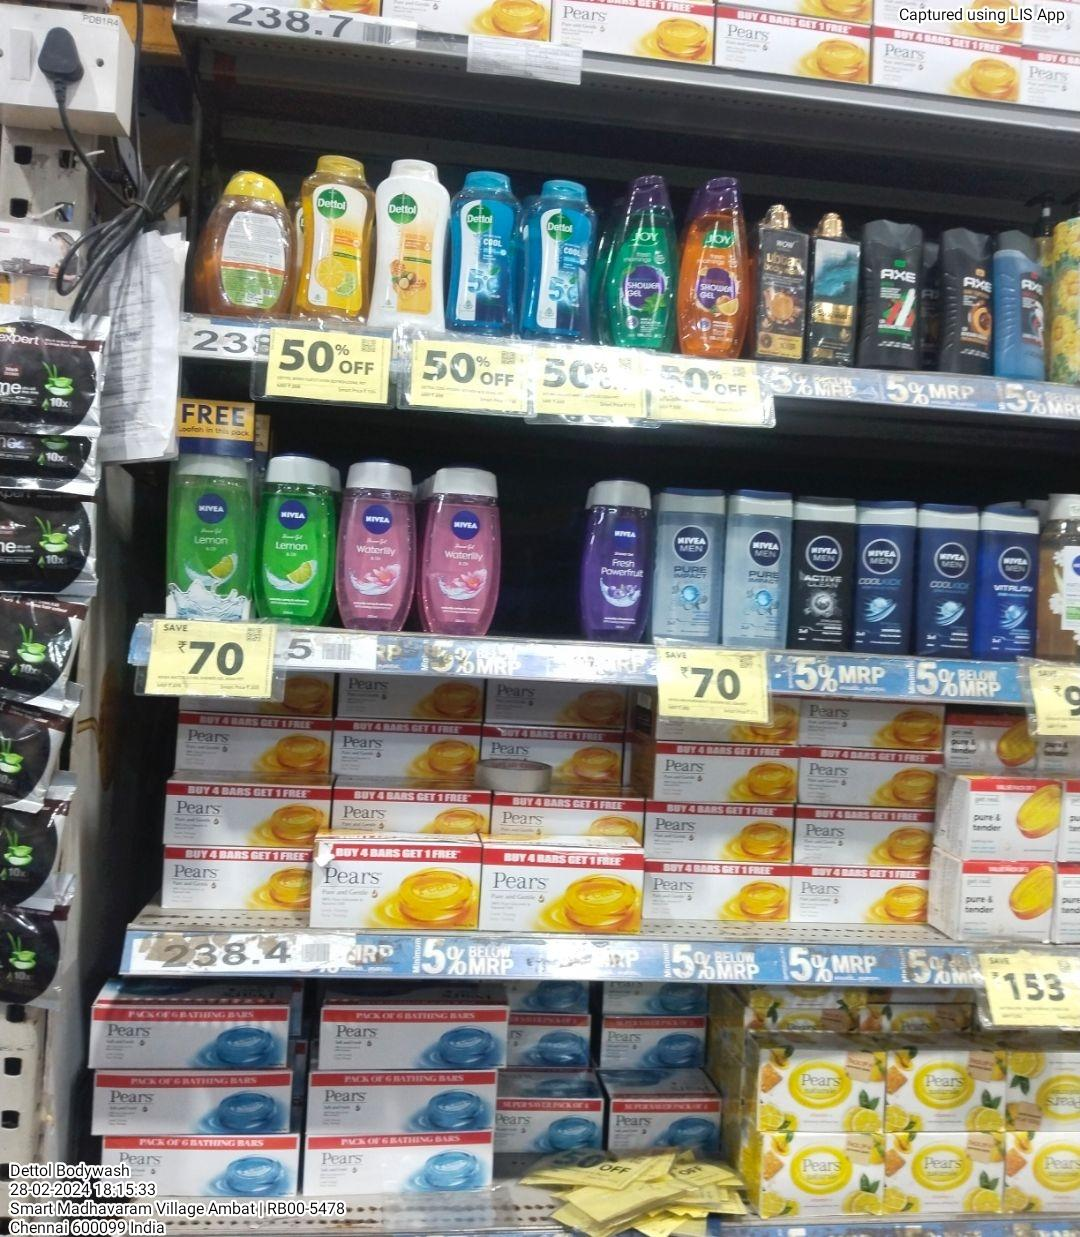Dettol_Bodywash_Cool: (447, 167, 519, 339), (528, 171, 589, 342)
Dettol_Bodywash_Refresh: (299, 151, 364, 324)
Joy_Shower_Gel_Mandarin_and_Lemongrass_250ML: (678, 171, 749, 348)
Joy_Shower_Gel_Mint_and_Eucalyptus_250ML: (602, 171, 675, 348)
Nivea_Shower_Gel_Fresh_Powerfruit_250ML: (580, 482, 652, 644)
Nivea_Shower_Gel_Lemon_and_Oil_250ML: (260, 452, 334, 630)
Nivea_Shower_Gel_Waterlily_and_Oil_250ML: (420, 458, 496, 638), (343, 460, 414, 624)
Palmolive_Coconut_Joy_Exfoliating_Body_Wash_250ML: (371, 154, 446, 340)
